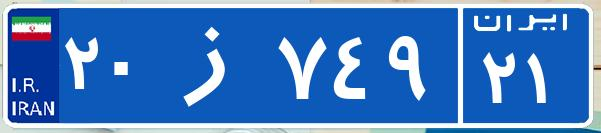0: (110, 28, 158, 105)
1: (525, 38, 570, 115)
2: (57, 26, 110, 107), (475, 38, 525, 113)
4: (330, 28, 385, 110)
7: (273, 28, 330, 110)
9: (385, 28, 445, 110)
ز: (158, 15, 273, 115)
